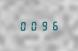nine: (38, 20, 47, 30)
six: (48, 19, 57, 30)
zero: (18, 20, 27, 31), (28, 20, 37, 31)
